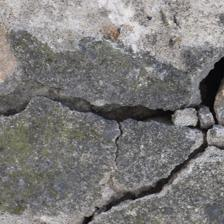Crack: (59, 9, 150, 121), (54, 6, 195, 37), (78, 51, 144, 116), (58, 6, 101, 81)
